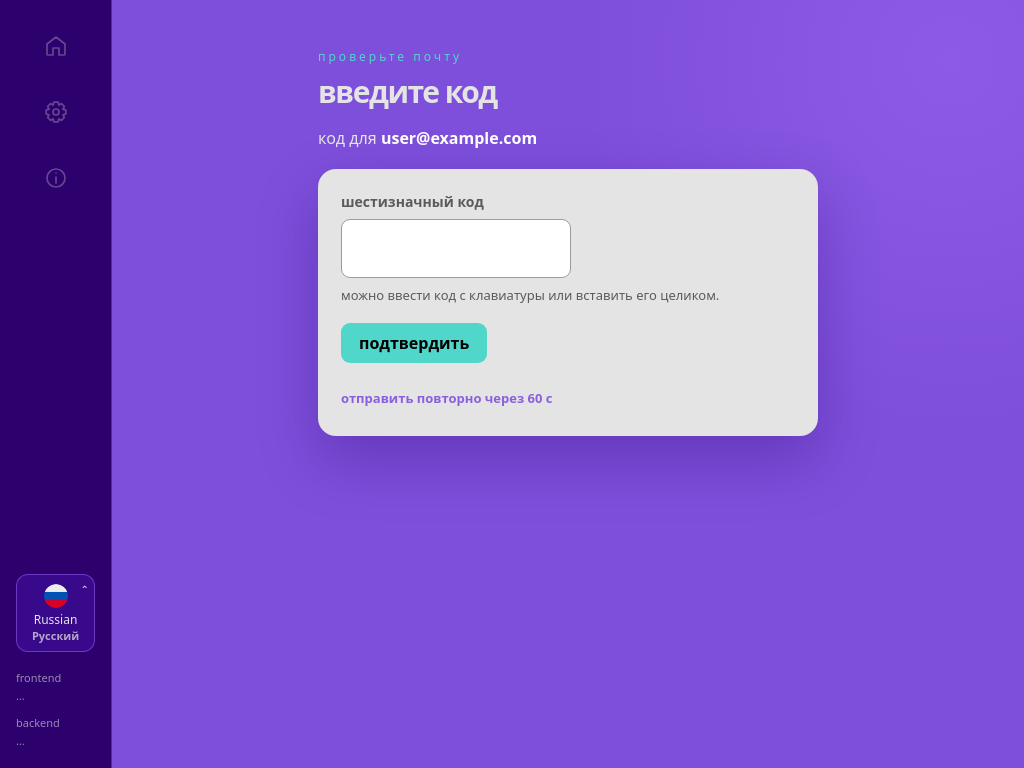
OTP verification component › accepts pasted digits, preserves a leading zero, and submits with the form
The width and height of the screenshot is (1024, 768).
In the field labelled "Шестизначный код": (456, 248) [341,219,571,278], type "01 23a45"
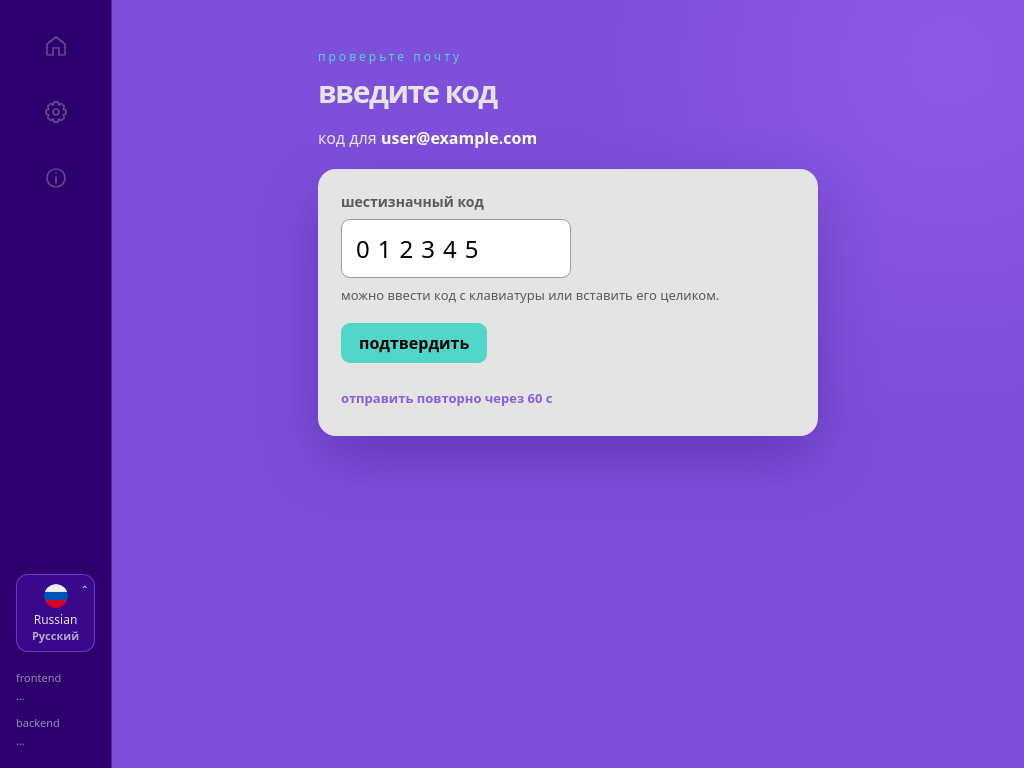
Expected: the field labelled "Шестизначный код" holds "012345", [341,219,571,278]
Submit the form "Шестизначный код", box [318,169,818,436]
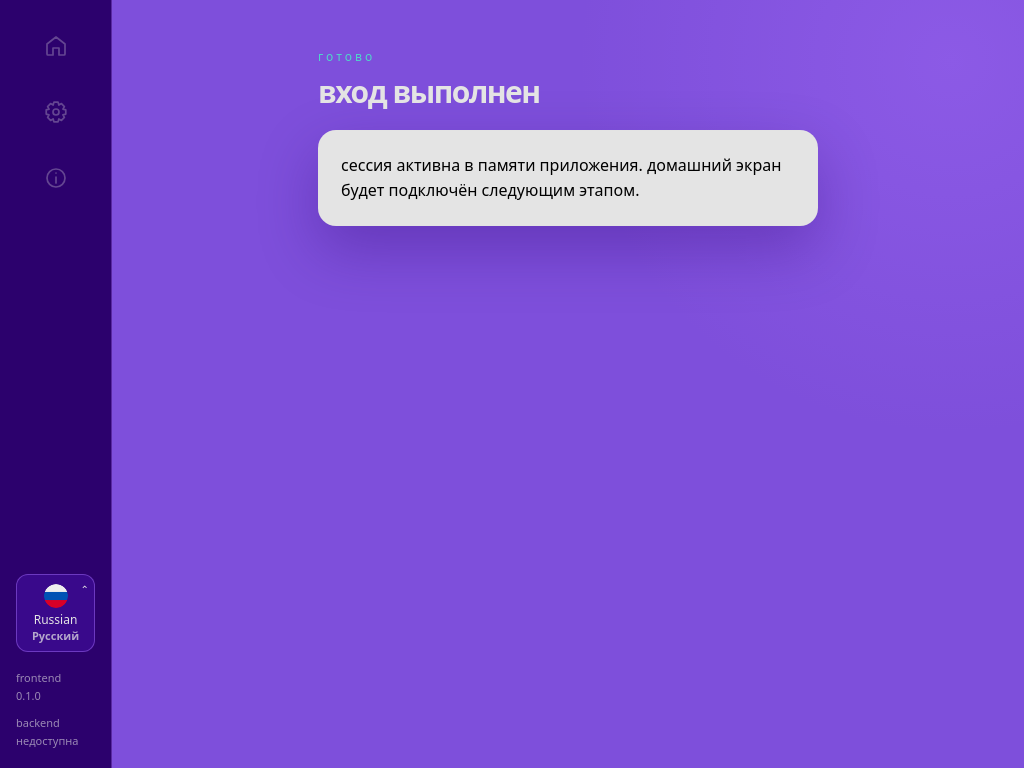
Expected: the heading "вход выполнен" is shown, [318,71,540,112]
